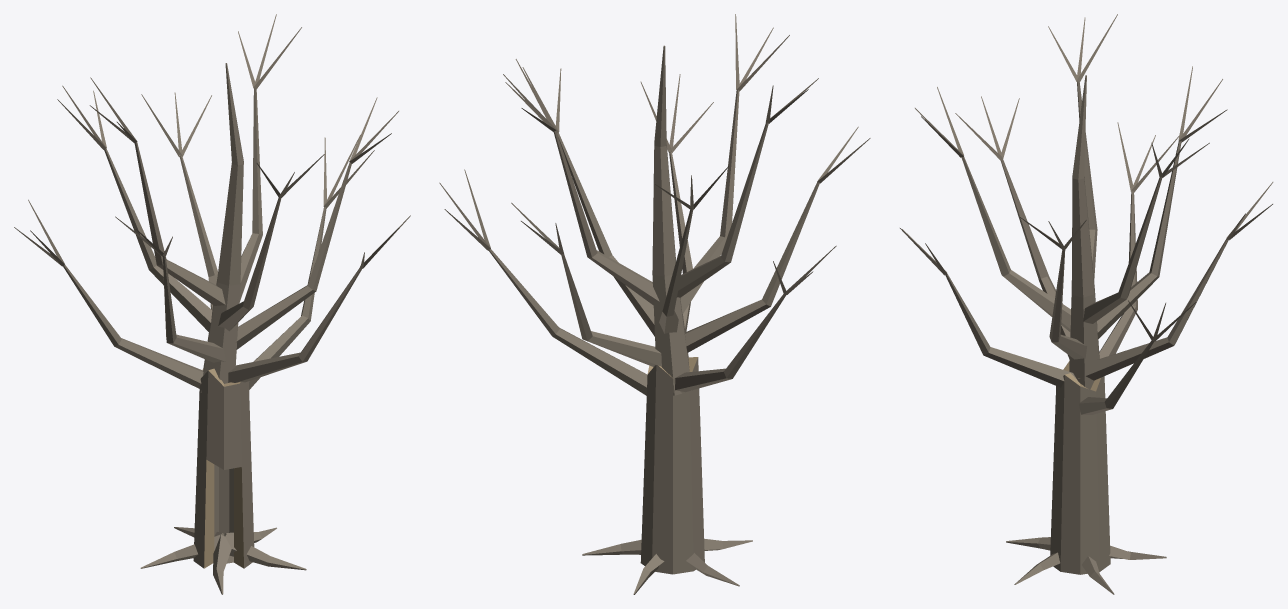
Rendered from oak-dead.glb.
3 views of the same model, side by side, from view 1: azimuth 30°, elevation 25°; view 2: azimuth 150°, elevation 25°; view 3: azimuth 270°, elevation 25° (orthographic). The views are drawn at different scales.
Visible parts, largest first — view 1: tree_oak-dead_LOD0; view 2: tree_oak-dead_LOD0; view 3: tree_oak-dead_LOD0.
Part boxes in pixels (box(x1,y1,x2,y2)): tree_oak-dead_LOD0: box(14, 14, 410, 594); tree_oak-dead_LOD0: box(439, 14, 870, 594); tree_oak-dead_LOD0: box(900, 14, 1273, 594).
Bounding box in the file's own units: 8.3 × 11.08 × 7.63.
